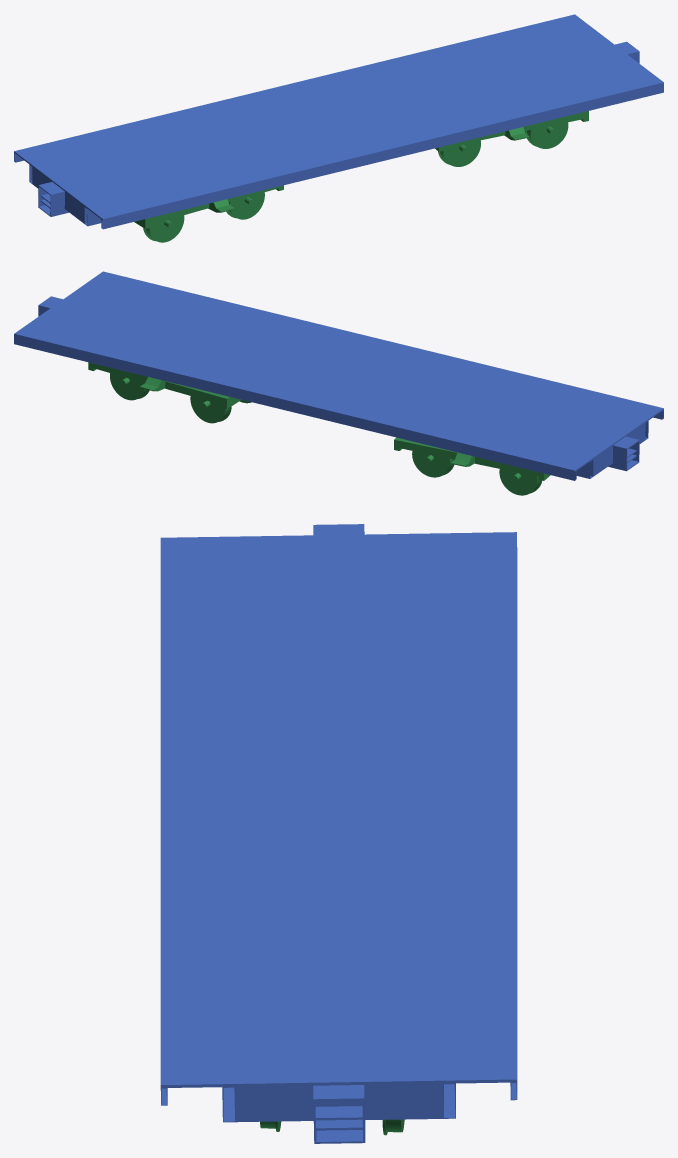
The model's file is DF1_optionA_R130ft_bump.glb.
The picture shows the model from 3 angles, top to bottom: view 1: azimuth 30°, elevation 25°; view 2: azimuth 150°, elevation 25°; view 3: azimuth 270°, elevation 25°; orthographic projection. The views are drawn at different scales.
Visible parts, largest first — view 1: coach_34_floor_plate_X0_10160_Z787_813_Y_1397__1397, coach_27_side_sill_X0_10160_Z635_787_Y_1397___1346, b1_065_wheel_0L, coach_28_drawgear_X_250_600_Z400_787_Y_200__200, b1_068_wheel_1L, b0_044_wheel_0R, b1_061_sideframe__1, b0_047_wheel_1R, b0_040_sideframe__1, coach_02_end_sill_X0_102_Z482_787_Y_813__813; view 2: coach_34_floor_plate_X0_10160_Z787_813_Y_1397__1397, coach_21_side_sill_X0_10160_Z635_787_Y1346__1397, b0_039_sideframe__1, b1_062_sideframe__1, b0_043_wheel_0L, coach_28_drawgear_X_250_600_Z400_787_Y_200__200, b0_046_wheel_1L, b1_069_wheel_1R, b1_066_wheel_0R, coach_02_end_sill_X0_102_Z482_787_Y_813__813; view 3: coach_34_floor_plate_X0_10160_Z787_813_Y_1397__1397, coach_03_end_sill_X10058_10160_Z482_787_Y_813__813, coach_31_drawgear_X9560_10410_Z400_787_Y_200__200.
Boxes of the visible parts, x1=… form: coach_34_floor_plate_X0_10160_Z787_813_Y_1397__1397: x1=14, y1=14, x2=663, y2=220; coach_27_side_sill_X0_10160_Z635_787_Y_1397___1346: x1=101, y1=84, x2=663, y2=229; b1_065_wheel_0L: x1=525, y1=122, x2=568, y2=148; coach_28_drawgear_X_250_600_Z400_787_Y_200__200: x1=38, y1=182, x2=68, y2=216; b1_068_wheel_1L: x1=438, y1=140, x2=480, y2=166; b0_044_wheel_0R: x1=143, y1=215, x2=184, y2=242; b1_061_sideframe__1: x1=439, y1=111, x2=588, y2=148; b0_047_wheel_1R: x1=226, y1=192, x2=264, y2=219; b0_040_sideframe__1: x1=141, y1=185, x2=283, y2=225; coach_02_end_sill_X0_102_Z482_787_Y_813__813: x1=32, y1=167, x2=84, y2=223; coach_34_floor_plate_X0_10160_Z787_813_Y_1397__1397: x1=14, y1=271, x2=663, y2=471; coach_21_side_sill_X0_10160_Z635_787_Y1346__1397: x1=14, y1=335, x2=576, y2=480; b0_039_sideframe__1: x1=394, y1=439, x2=545, y2=477; b1_062_sideframe__1: x1=88, y1=362, x2=226, y2=405; b0_043_wheel_0L: x1=499, y1=469, x2=541, y2=495; coach_28_drawgear_X_250_600_Z400_787_Y_200__200: x1=608, y1=436, x2=639, y2=471; b0_046_wheel_1L: x1=412, y1=451, x2=454, y2=477; b1_069_wheel_1R: x1=190, y1=396, x2=231, y2=423; b1_066_wheel_0R: x1=110, y1=373, x2=149, y2=400; coach_02_end_sill_X0_102_Z482_787_Y_813__813: x1=593, y1=423, x2=645, y2=476; coach_34_floor_plate_X0_10160_Z787_813_Y_1397__1397: x1=160, y1=532, x2=516, y2=1087; coach_03_end_sill_X10058_10160_Z482_787_Y_813__813: x1=235, y1=1083, x2=443, y2=1122; coach_31_drawgear_X9560_10410_Z400_787_Y_200__200: x1=313, y1=1085, x2=365, y2=1143.
Bounding box in the file's own units: 10660 × 1167 × 2797.
